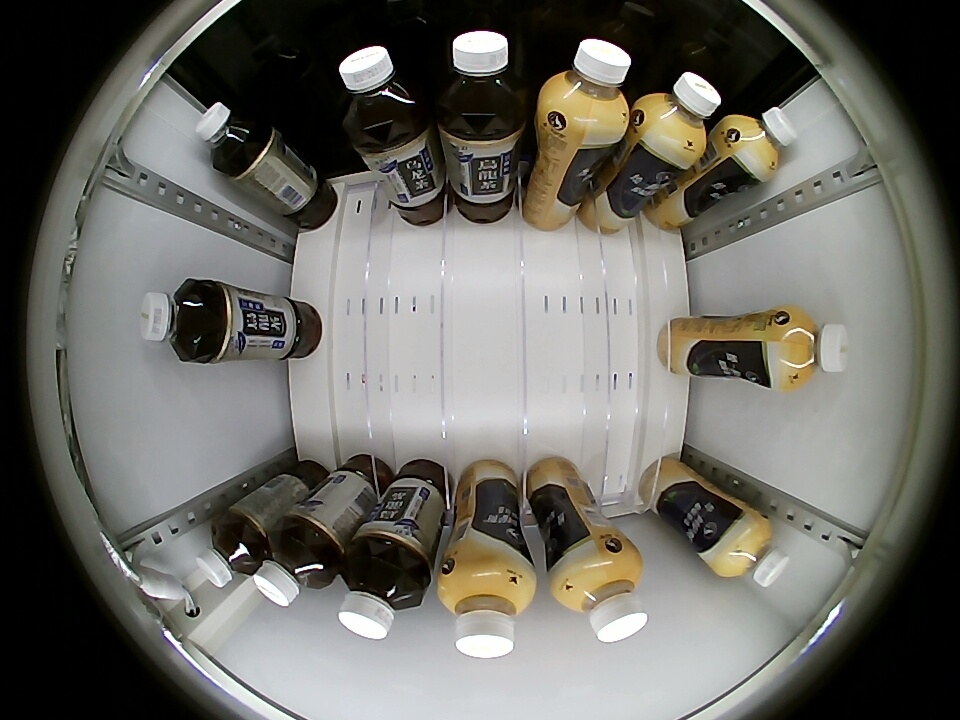asamu: (438, 563, 536, 659), (552, 547, 647, 645), (541, 36, 632, 133), (638, 71, 722, 155), (768, 309, 850, 390), (714, 513, 790, 587), (729, 105, 798, 179)
wulongcha: (433, 29, 528, 129), (338, 44, 428, 143), (338, 553, 426, 640), (254, 526, 333, 608), (139, 278, 216, 361), (196, 101, 263, 172), (196, 517, 261, 588)
